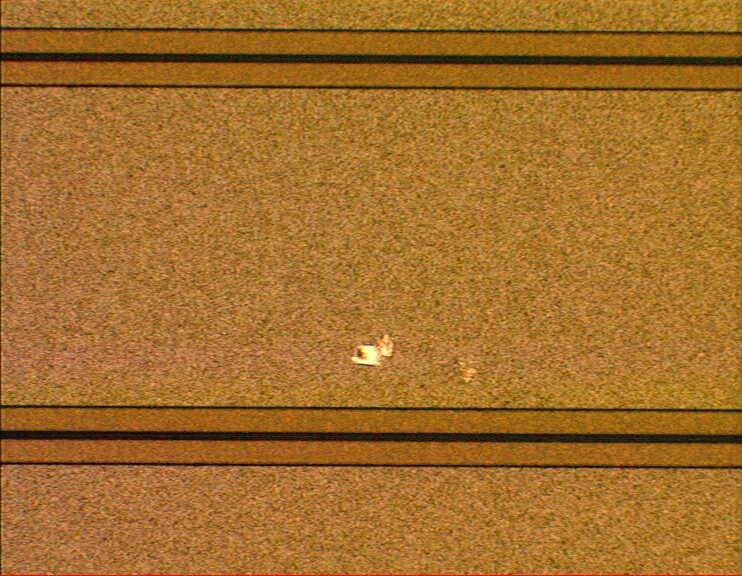SCRATCH: (350, 328, 492, 391)
